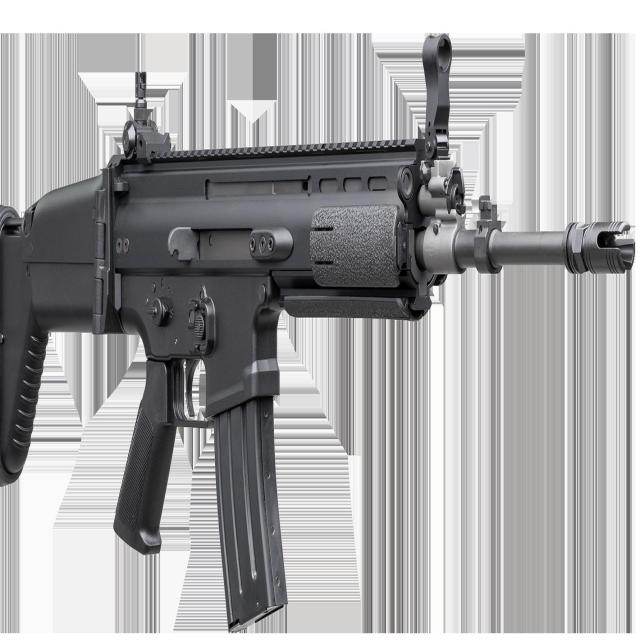Gun: (1, 76, 634, 628)
